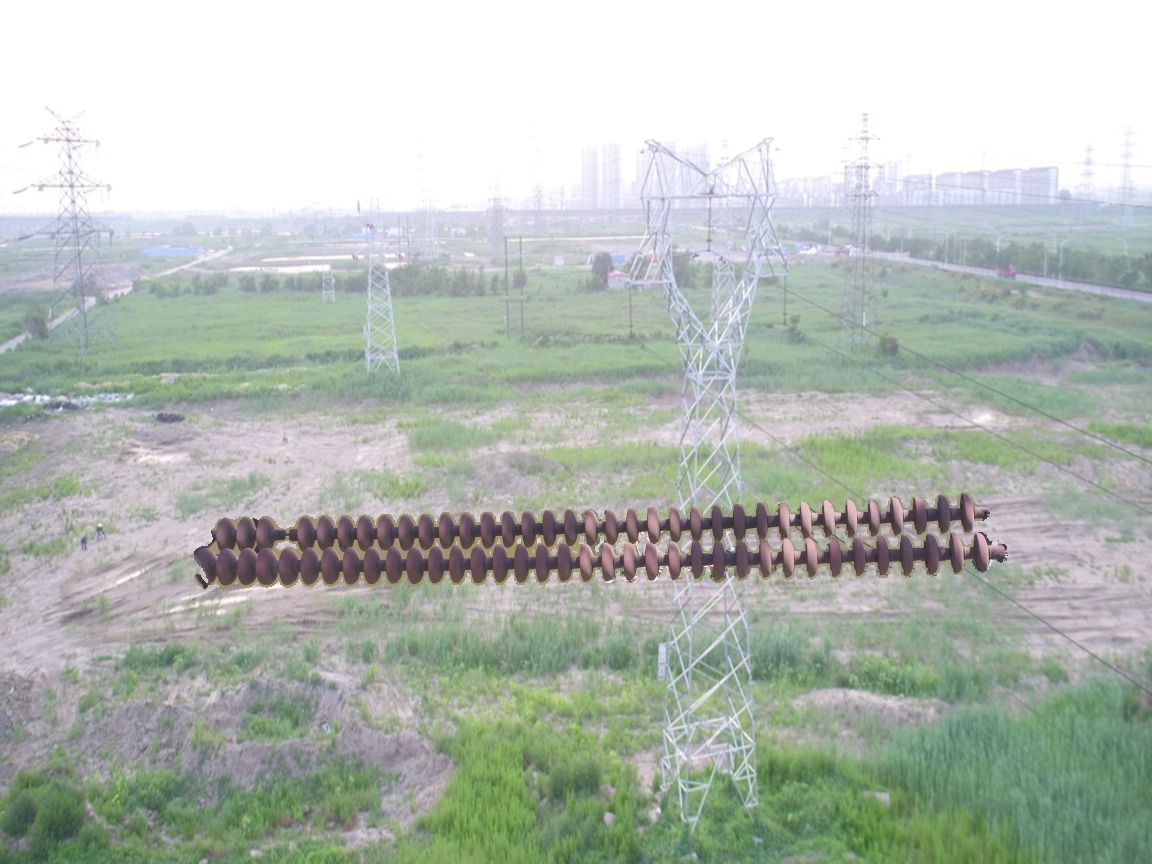defect: (252, 514, 316, 550)
